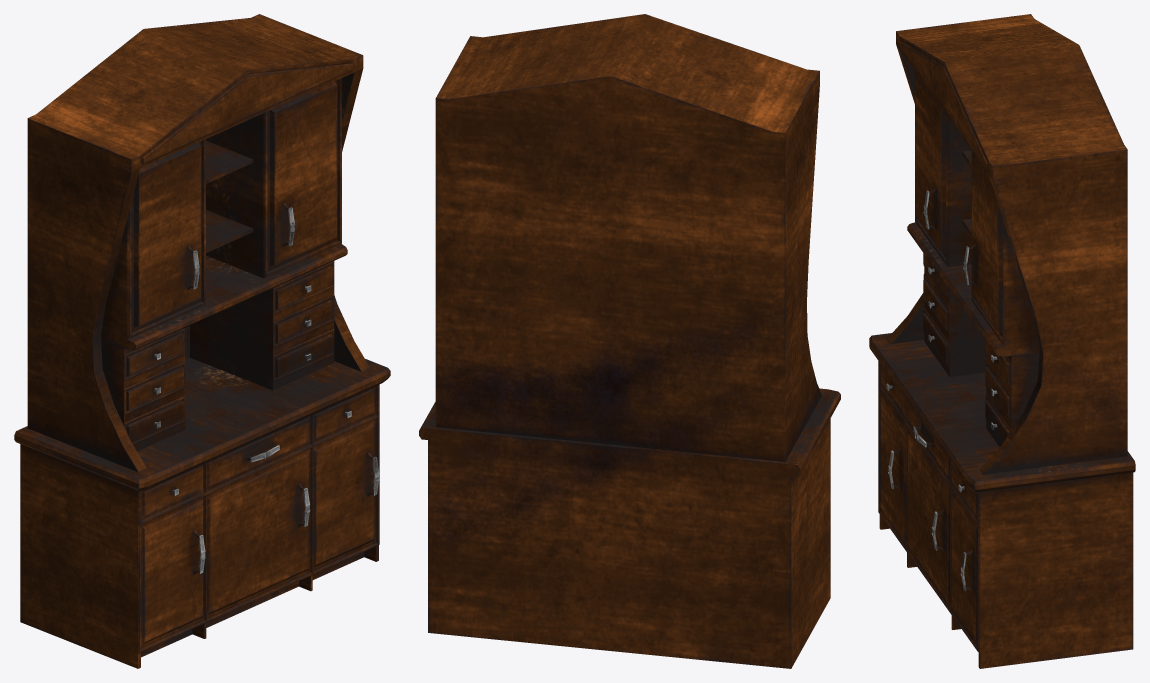
The model's file is old_wooden_cabinet.glb.
The picture shows the model from 3 angles, left to right: view 1: azimuth 30°, elevation 25°; view 2: azimuth 150°, elevation 25°; view 3: azimuth 270°, elevation 25°; orthographic projection. The views are drawn at different scales.
Parts seen in each view (by area): view 1: Box0009; view 2: Box0009; view 3: Box0009.
Boxes of the visible parts, bbox=[...] form: Box0009: bbox=[14, 14, 390, 668]; Box0009: bbox=[419, 14, 840, 668]; Box0009: bbox=[869, 14, 1135, 668].
Bounding box in the file's own units: 3.45 × 5.11 × 2.31.
1 material, 1 textured.
